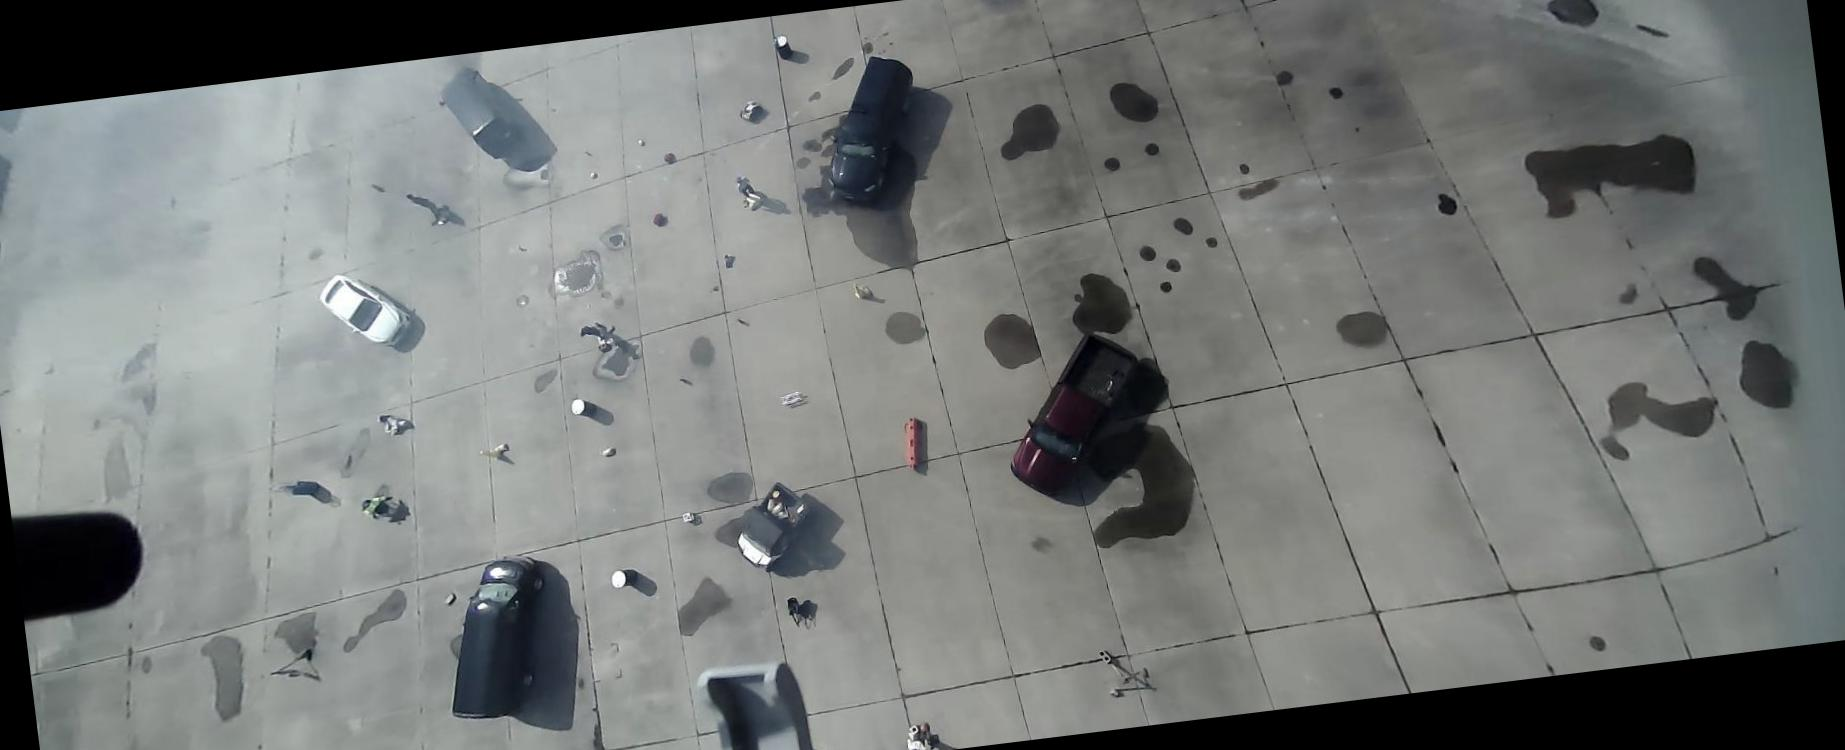vehicle: (994, 325, 1152, 492), (432, 550, 558, 724), (812, 49, 926, 201), (434, 60, 526, 166), (317, 265, 414, 353), (731, 479, 814, 568)
